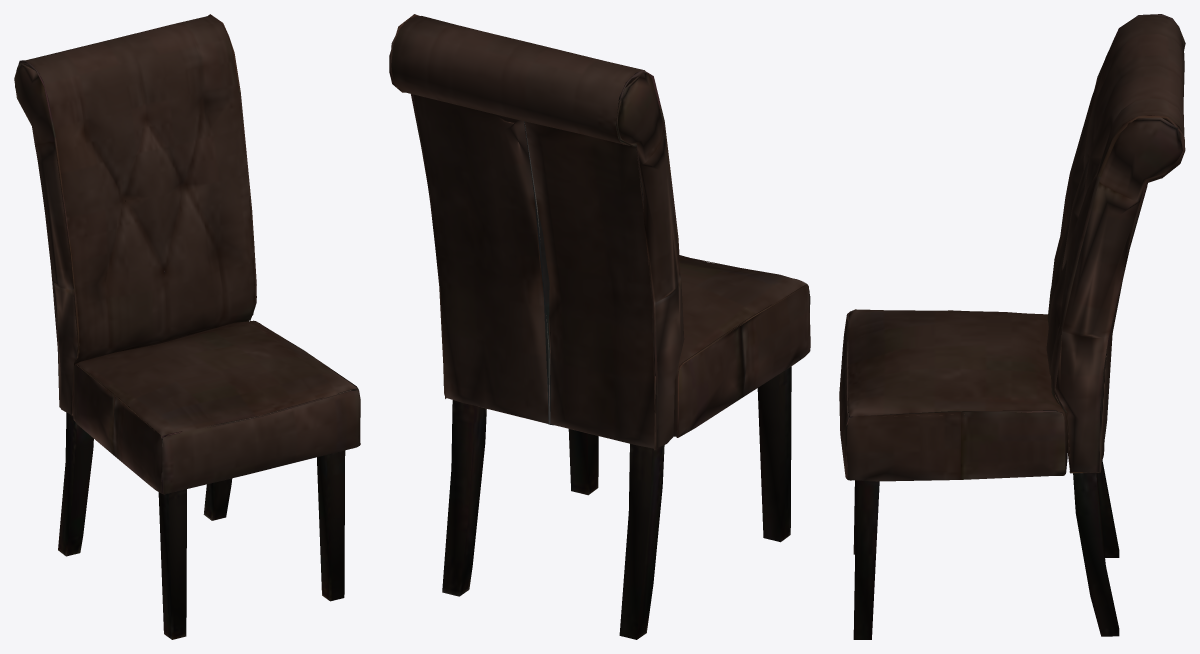
The model's file is dining_chair_02.glb.
The picture shows the model from 3 angles, left to right: view 1: azimuth 30°, elevation 25°; view 2: azimuth 150°, elevation 25°; view 3: azimuth 270°, elevation 25°; orthographic projection. The views are drawn at different scales.
Visible parts, largest first — view 1: dining_chair_02; view 2: dining_chair_02; view 3: dining_chair_02.
Boxes of the visible parts, x1,y1,x2,y2 form: dining_chair_02: (14,14,360,639); dining_chair_02: (389,14,810,639); dining_chair_02: (839,14,1185,639).
Bounding box in the file's own units: 0.4315 × 0.972 × 0.5764.
Materials: 1 (1 with a texture image).
